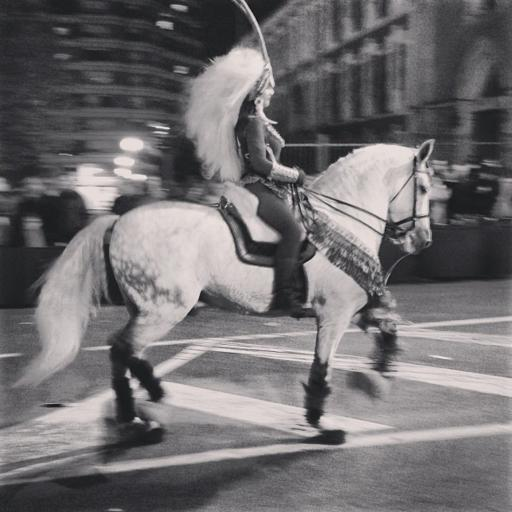horse: (10, 134, 432, 448)
